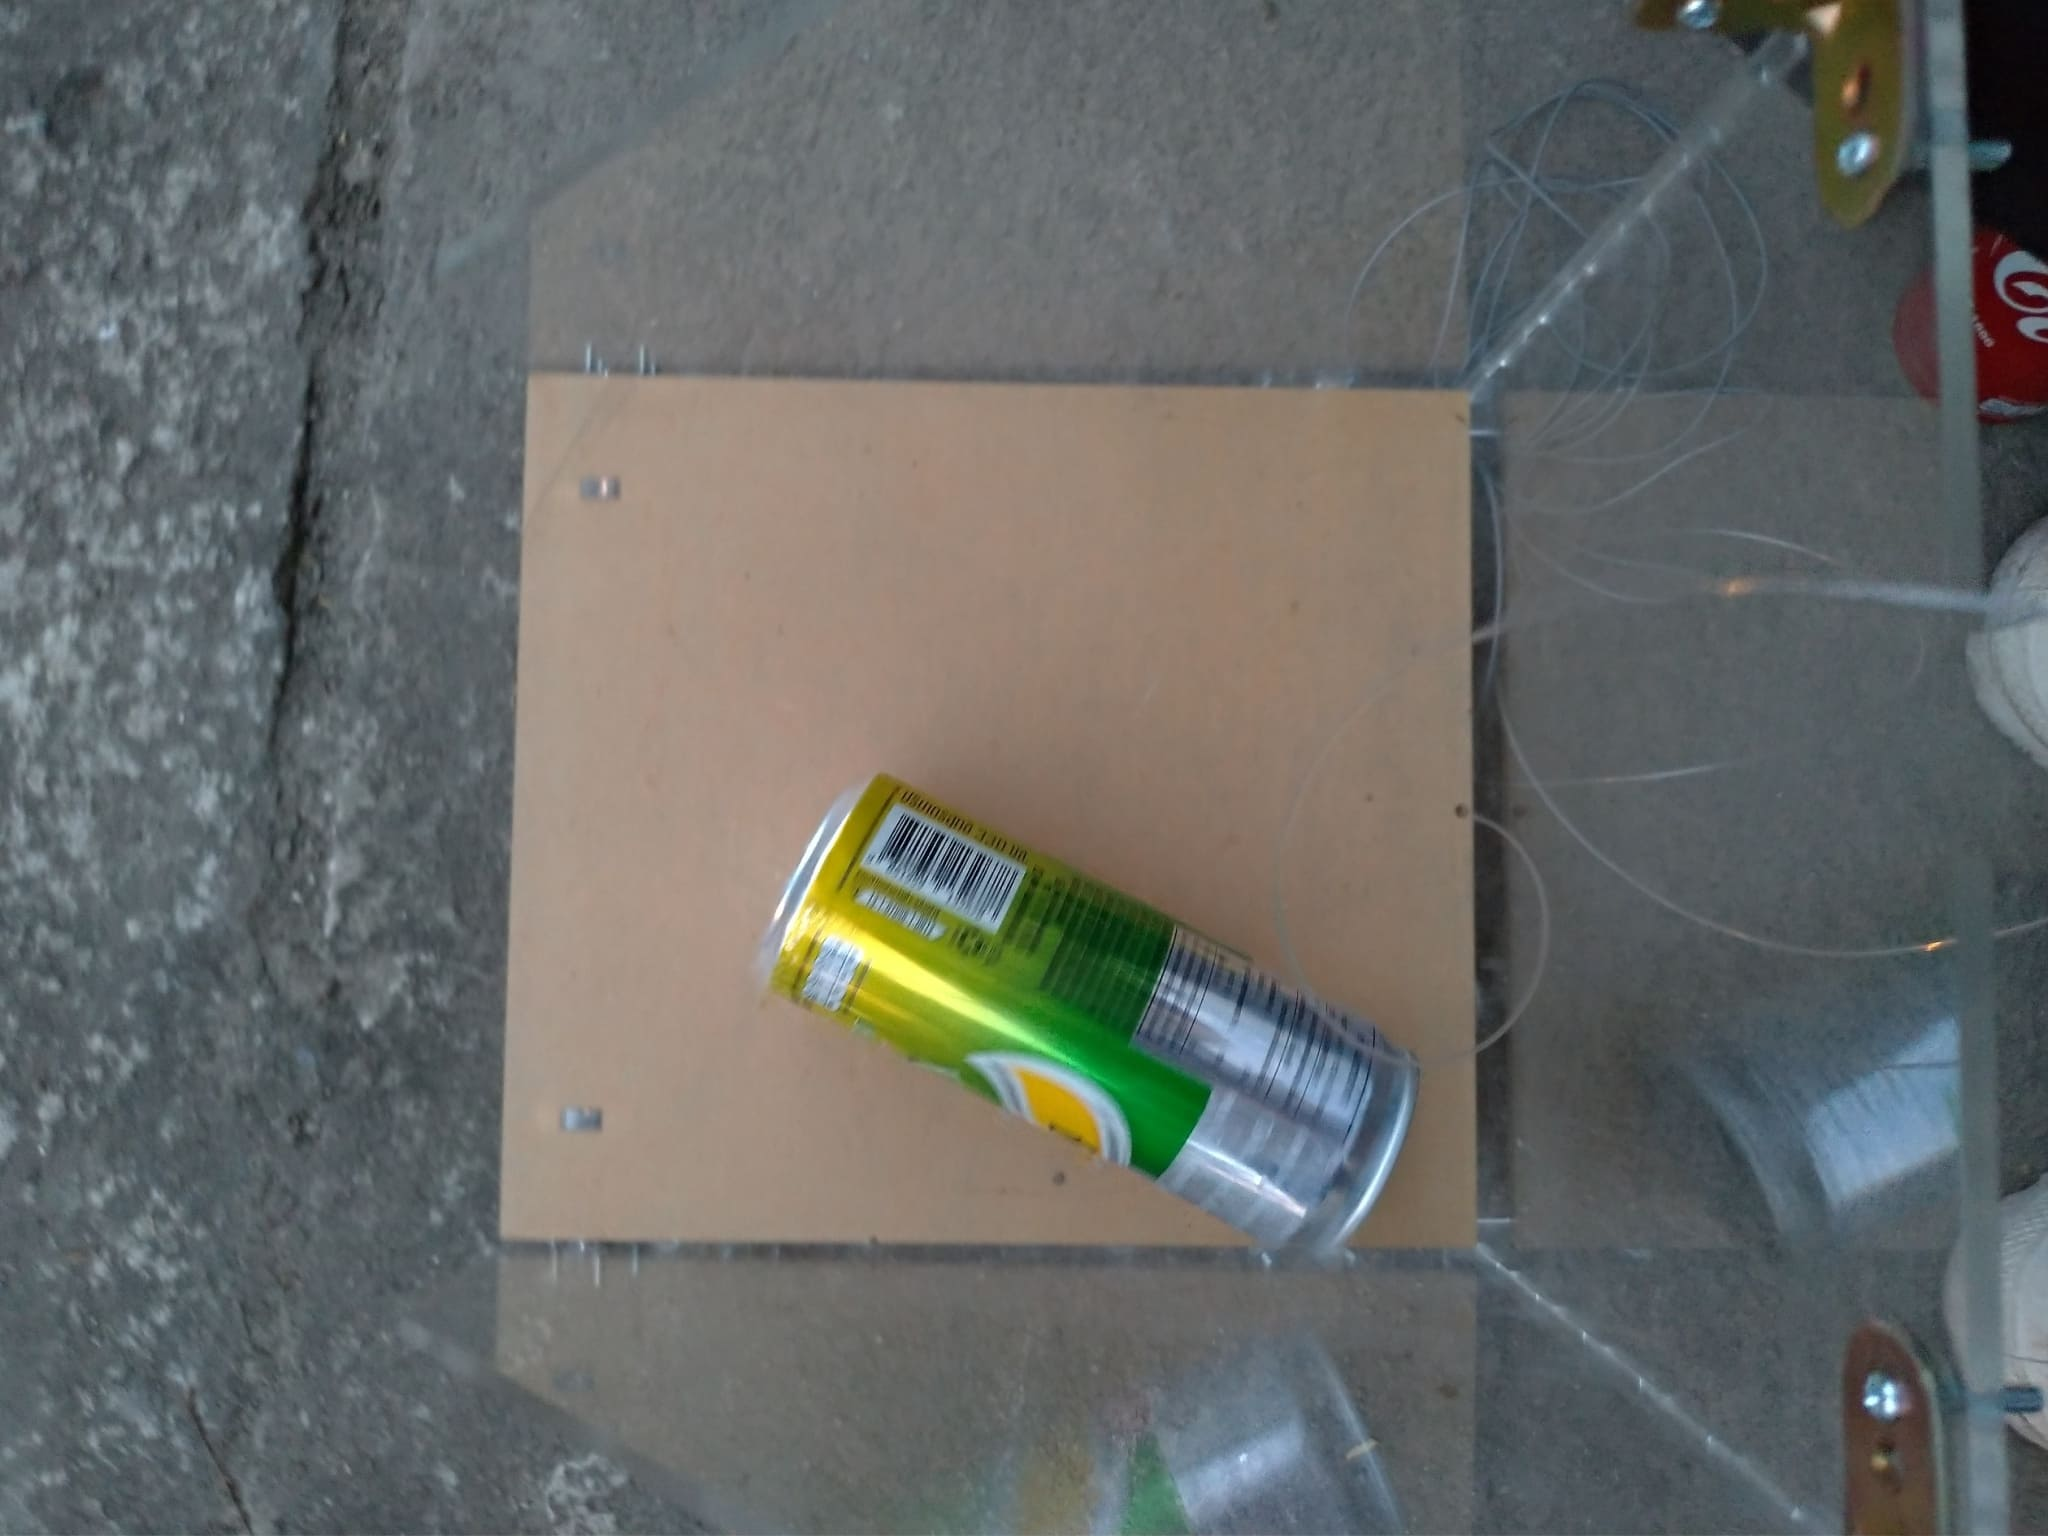AlCan: (758, 776, 1426, 1262), (1901, 205, 2048, 418)
